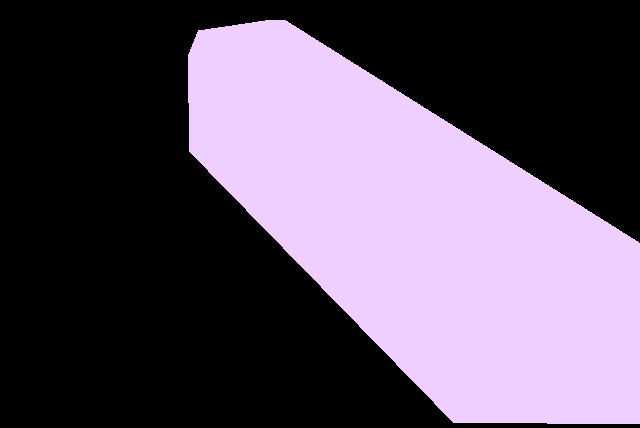Train: (188, 20, 640, 424)
